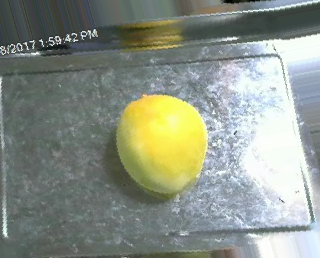Mango: (105, 83, 215, 209)
